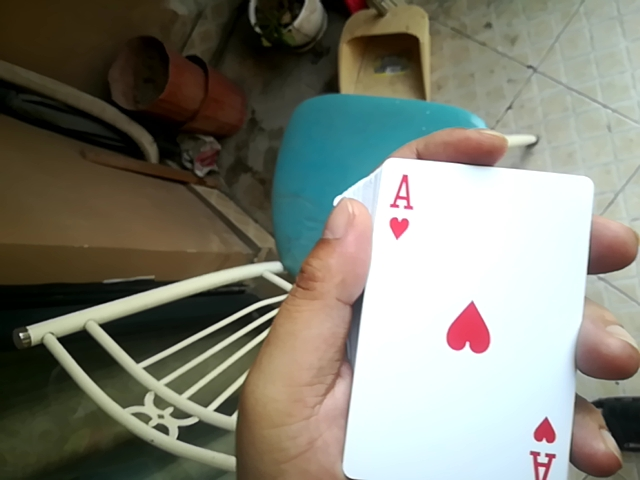hx a: (334, 163, 584, 480)
